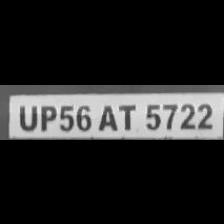2: (194, 100, 212, 130), (177, 100, 195, 128)
5: (140, 100, 162, 130), (57, 101, 74, 131)
6: (74, 102, 94, 130)
7: (161, 100, 177, 128)
A: (94, 101, 118, 131)
P: (37, 103, 55, 132)
T: (117, 100, 139, 130)
U: (14, 102, 38, 131)
